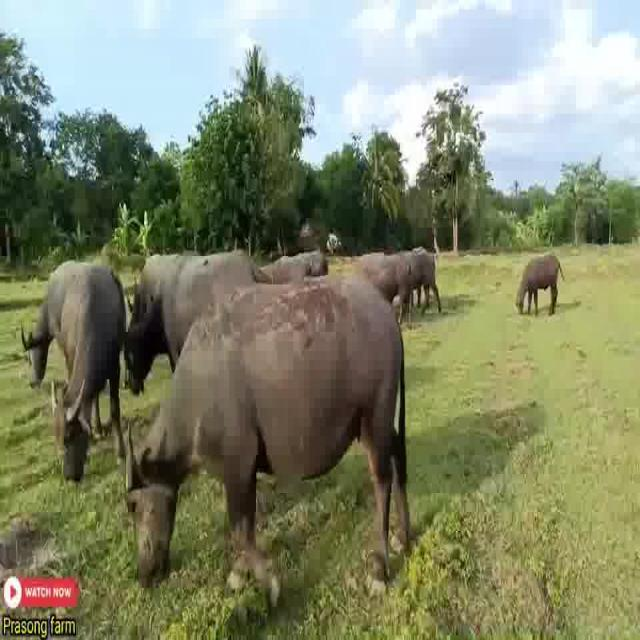buffalo: (122, 251, 416, 593), (21, 251, 126, 484), (375, 246, 445, 326), (517, 249, 568, 321)
